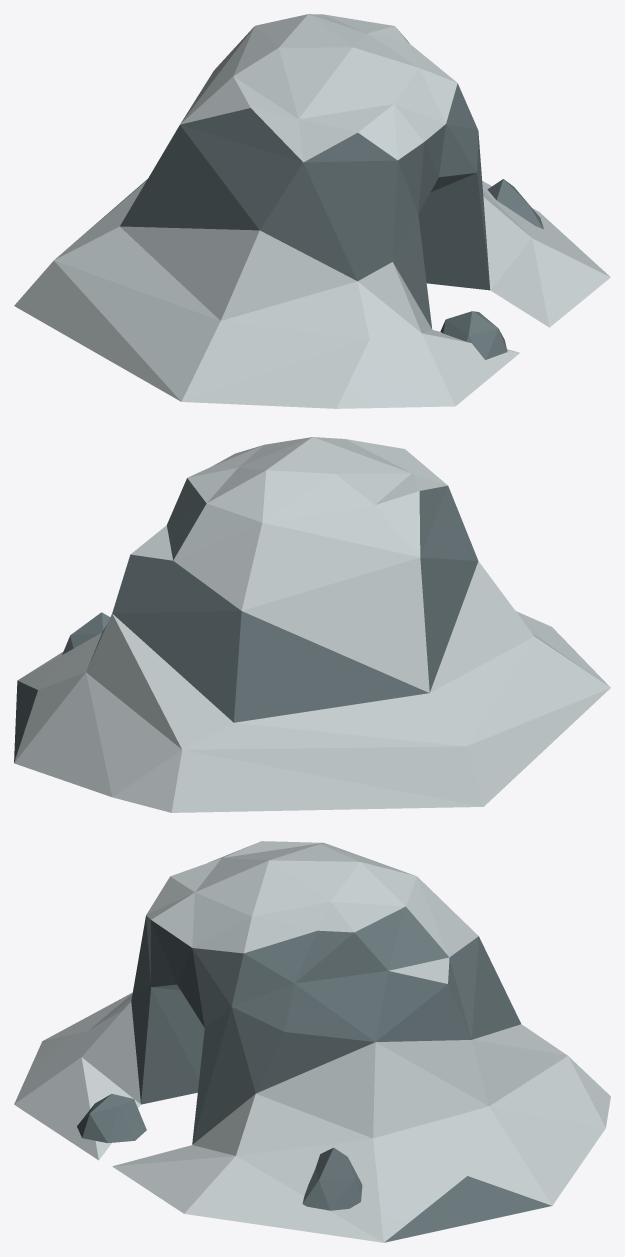
The model's file is snowShelter.fbx.
3 renders of one model, top to bottom at view 1: azimuth 30°, elevation 25°; view 2: azimuth 150°, elevation 25°; view 3: azimuth 270°, elevation 25°, orthographic. The views are drawn at different scales.
Visible parts, largest first — view 1: snowShelter; view 2: snowShelter; view 3: snowShelter.
Boxes of the visible parts, x1=… form: snowShelter: x1=14, y1=14, x2=610, y2=408; snowShelter: x1=14, y1=437, x2=610, y2=812; snowShelter: x1=14, y1=841, x2=610, y2=1242.
Size of the model in its own units: 2.83 by 1.45 by 2.94.
